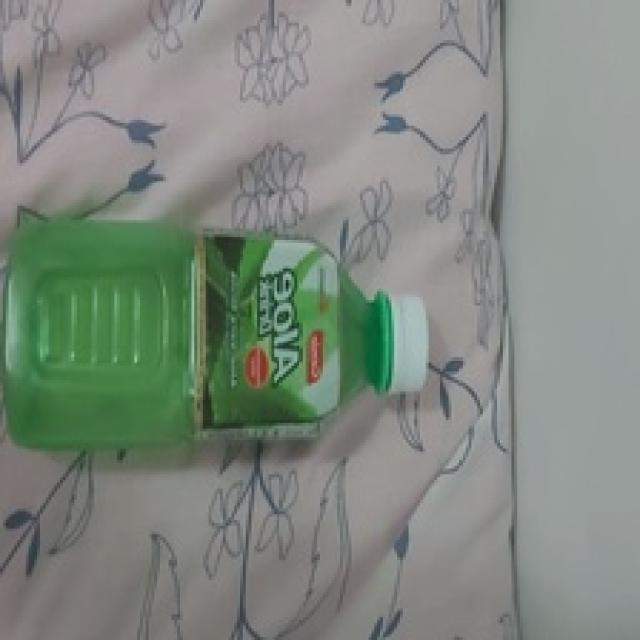plastic: (0, 230, 440, 440)
